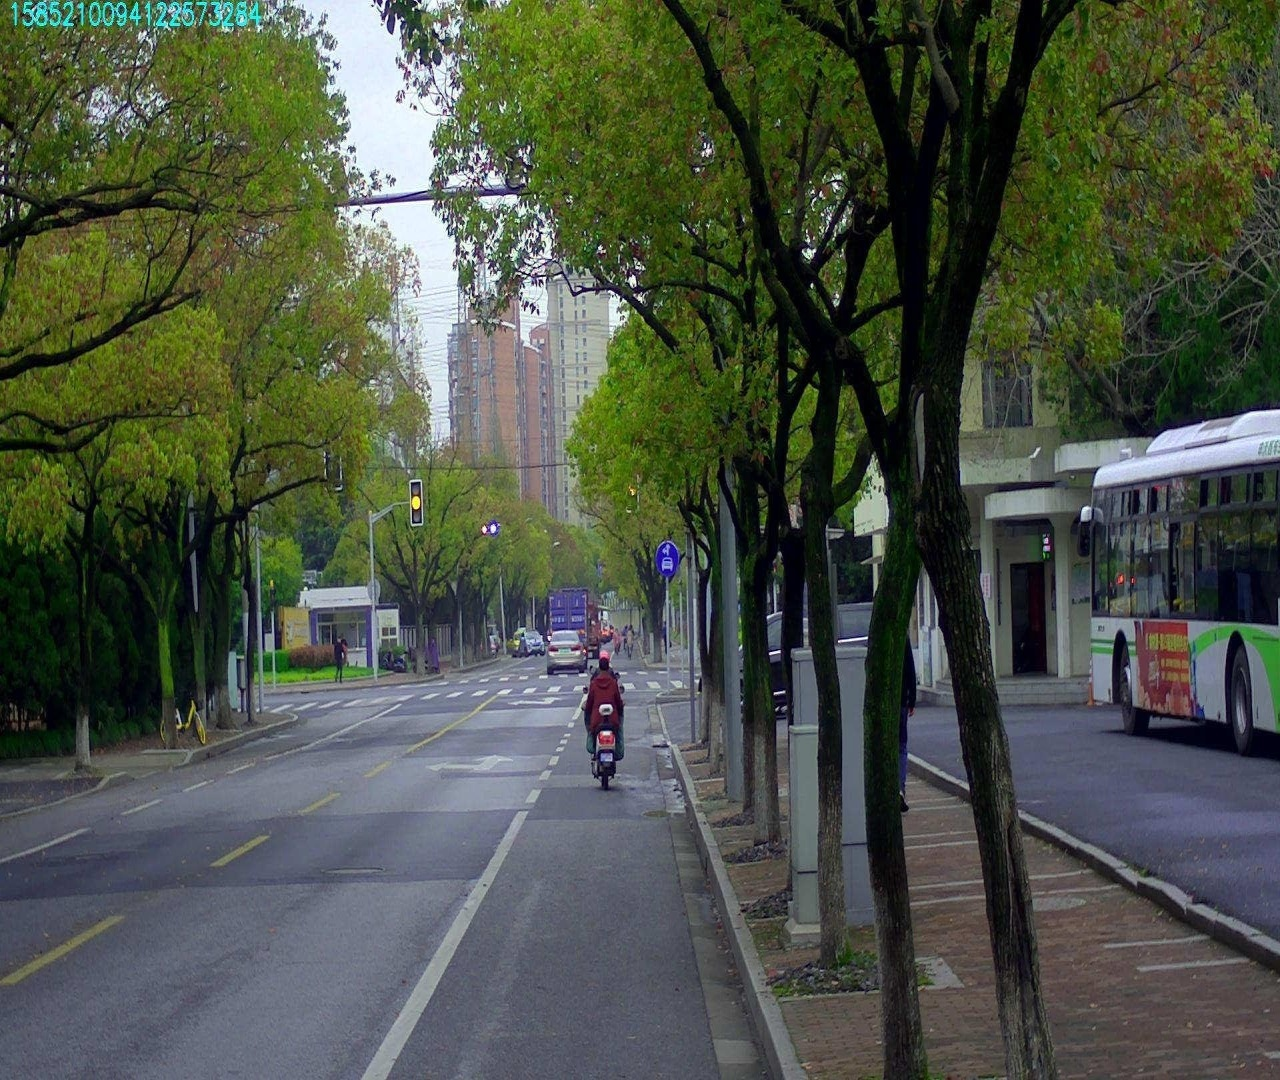yellow: (626, 466, 638, 511), (410, 480, 422, 525)
